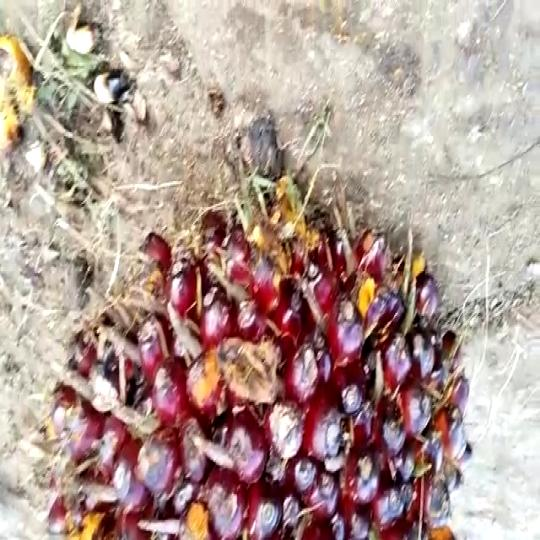kurang masak: (27, 162, 498, 540)
